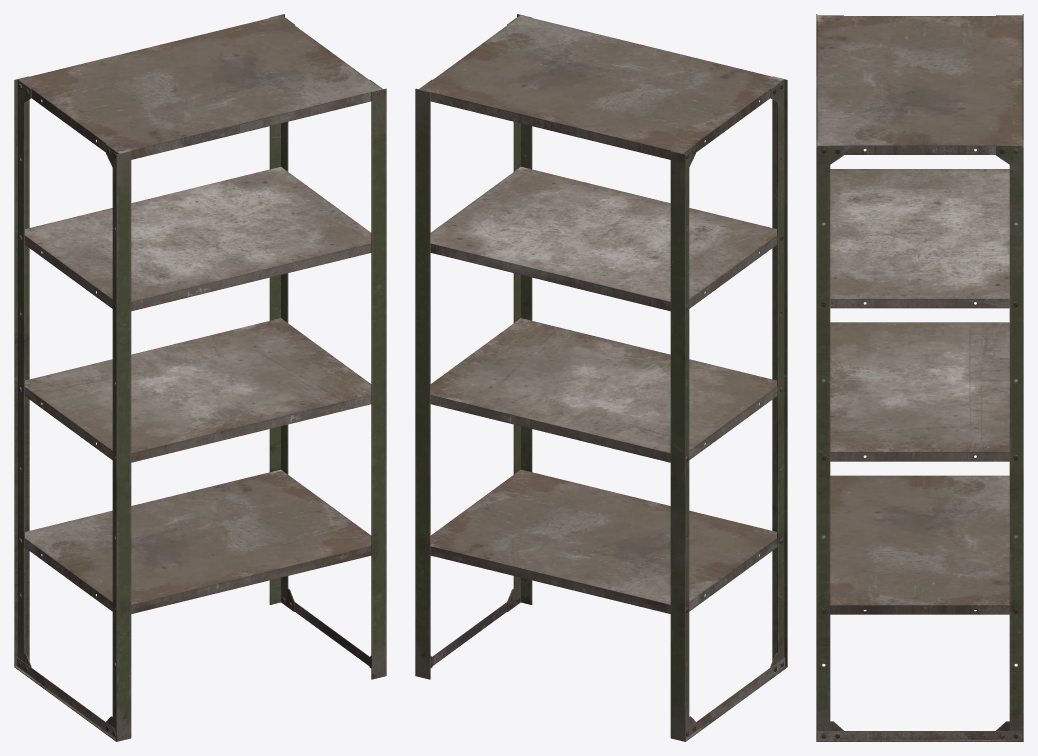
Rendered from metal_rack.glb.
The picture shows the model from 3 angles, left to right: view 1: azimuth 30°, elevation 25°; view 2: azimuth 150°, elevation 25°; view 3: azimuth 270°, elevation 25°; orthographic projection.
Parts seen in each view (by area): view 1: worn_metal_rack; view 2: worn_metal_rack; view 3: worn_metal_rack.
Part boxes in pixels (<box>): worn_metal_rack: <box>14,14,386,741</box>; worn_metal_rack: <box>415,14,787,741</box>; worn_metal_rack: <box>816,14,1023,741</box>.
Size of the model in its own units: 0.9153 by 1.9 by 0.6001.
Materials: 1 (1 with a texture image).
